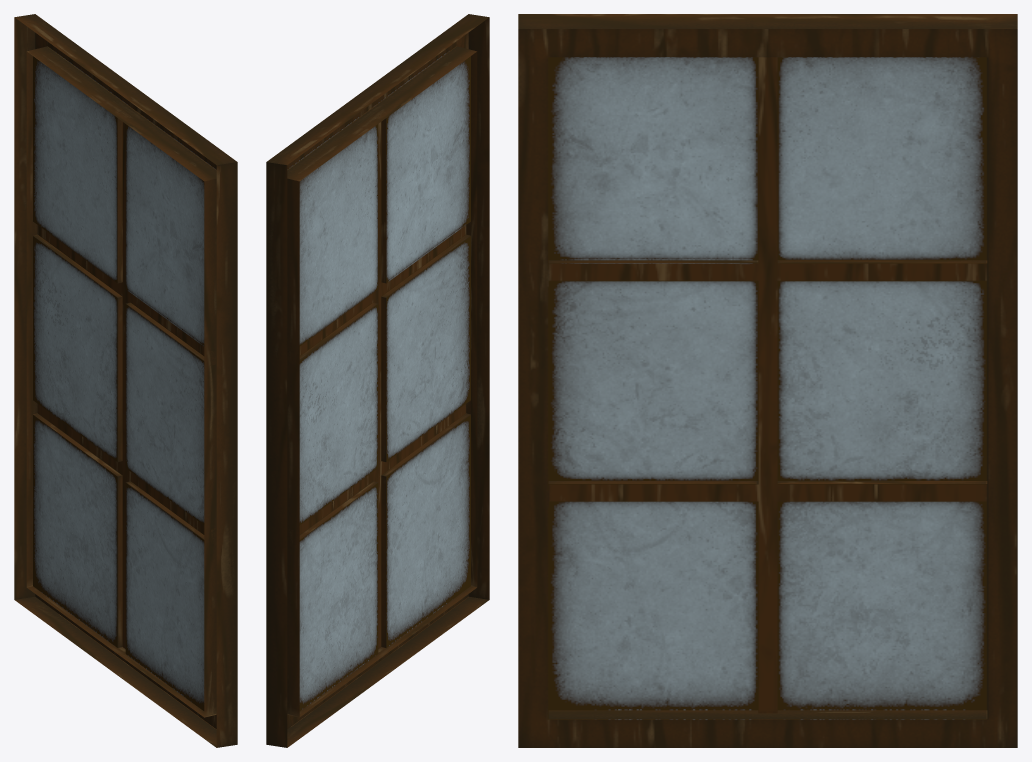
Rendered from W_Window_Fbx.fbx.
3 views of the same model, side by side, from view 1: azimuth 30°, elevation 25°; view 2: azimuth 150°, elevation 25°; view 3: azimuth 270°, elevation 25° (orthographic). The views are drawn at different scales.
Parts seen in each view (by area): view 1: Cube.046; view 2: Cube.046; view 3: Cube.046.
Boxes of the visible parts, bbox=[...] form: Cube.046: bbox=[14, 14, 237, 747]; Cube.046: bbox=[266, 14, 489, 747]; Cube.046: bbox=[518, 14, 1017, 747].
Size of the model in its own units: 8 by 213 by 134.
Materials: 1 (1 with a texture image).
